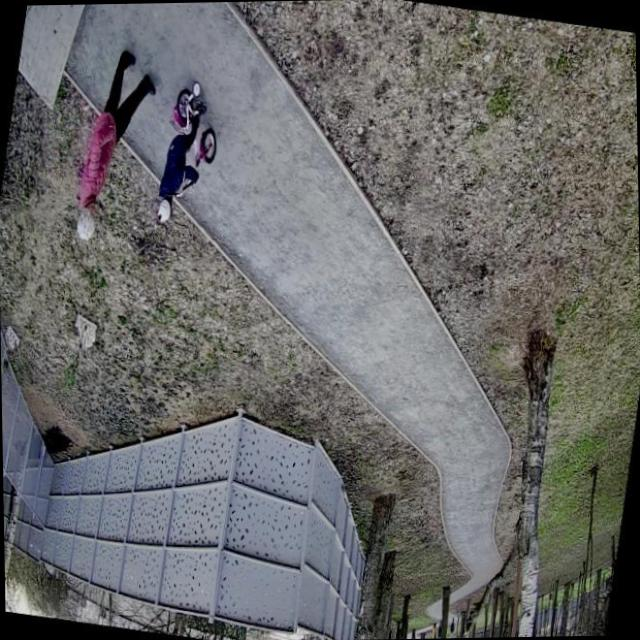person: (68, 45, 165, 252)
